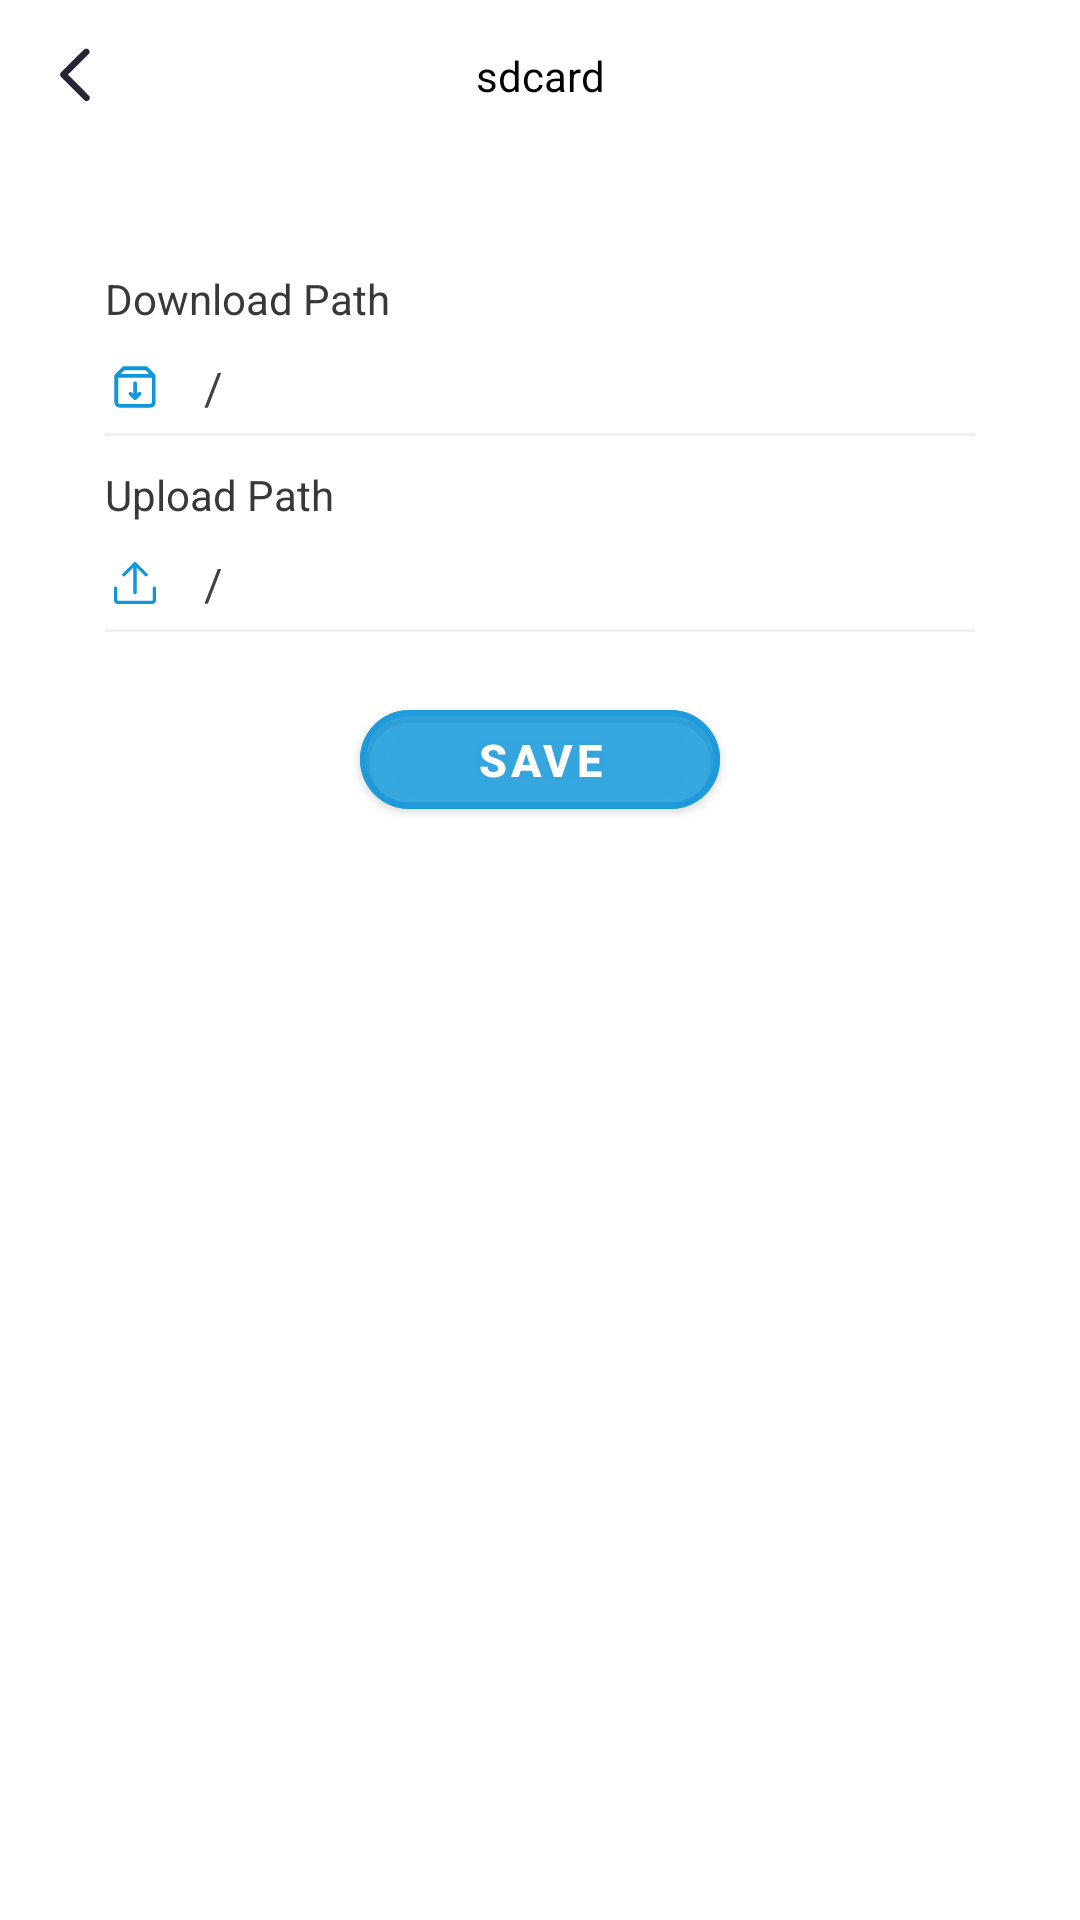

Icons on this 1080*1920 Android screen, each with the point to tap as (x,y):
left: (75,74)
